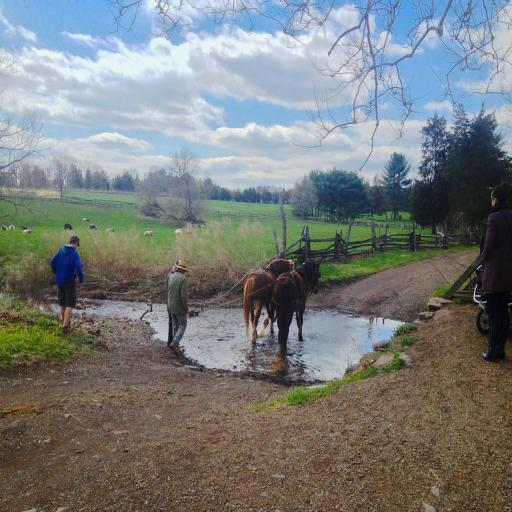horse: (271, 259, 323, 344), (242, 258, 291, 344)
